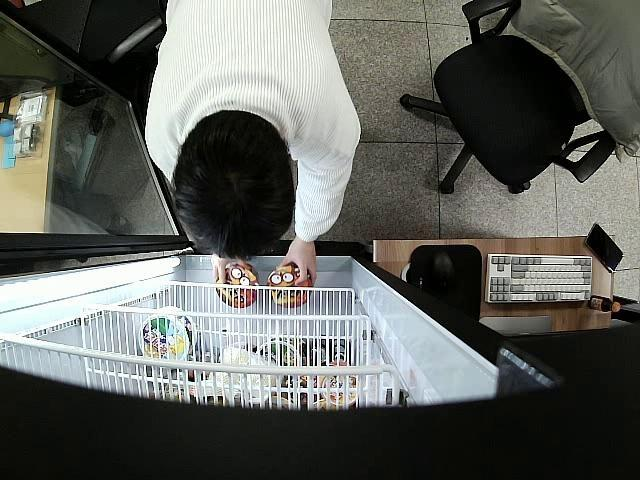05_nuguri_L: (216, 264, 261, 308), (268, 265, 312, 306)
